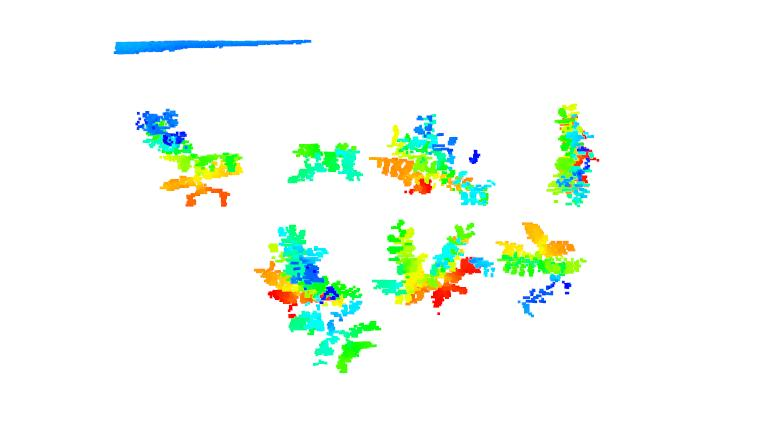chickpea: (252, 223, 384, 376), (368, 108, 498, 208), (374, 218, 494, 314), (136, 110, 245, 210), (494, 220, 588, 317), (541, 100, 604, 212), (283, 136, 363, 187)
